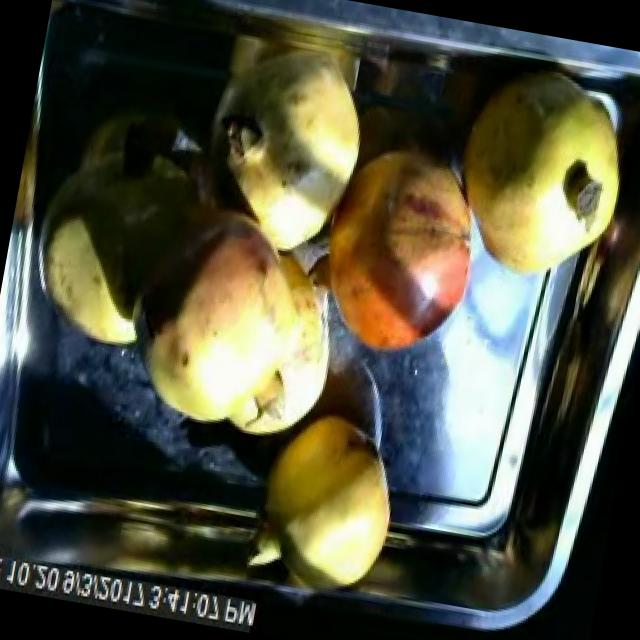fruit: (110, 172, 376, 463), (282, 109, 512, 384), (426, 40, 640, 305), (192, 25, 390, 285), (242, 396, 418, 606)
